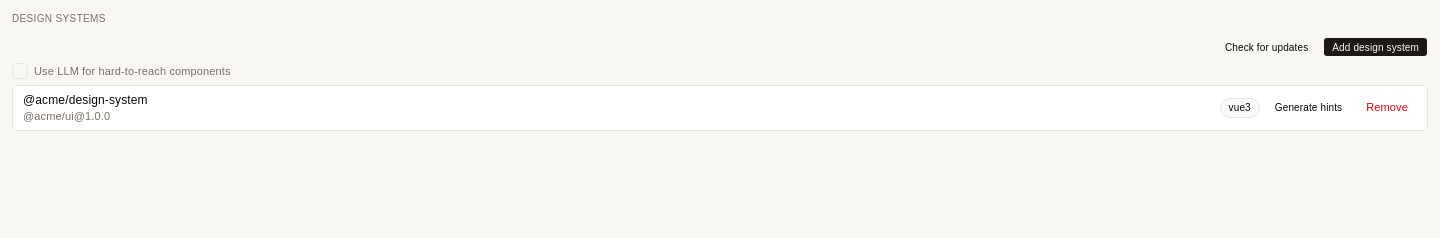
Scenario: DesignSystemsPanel add mode › swaps the list for the stepped flow, and back again on cancel
This screenshot has width=1440, height=238.
Click the button with test id "open-add-design-system" at (1376, 47), box 1323,37 -> 1428,57
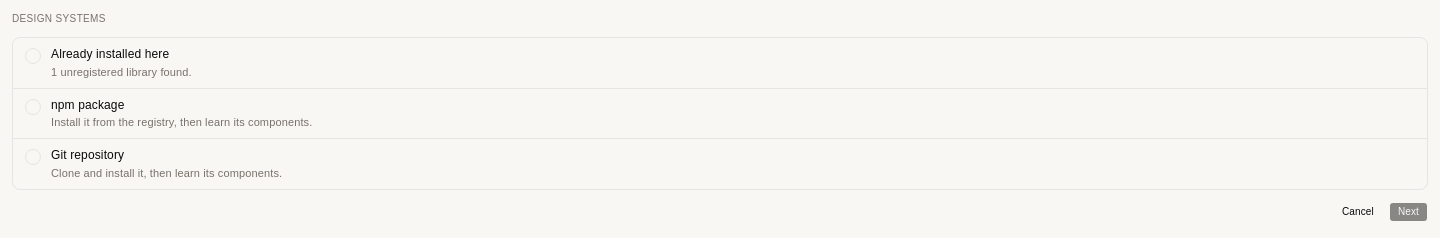
Result: the element with test id "add-design-system-source" is shown
Result: the text "@acme/design-system" is gone
Click the button with test id "add-design-system-cancel" at (1358, 212), box 1333,202 -> 1383,222
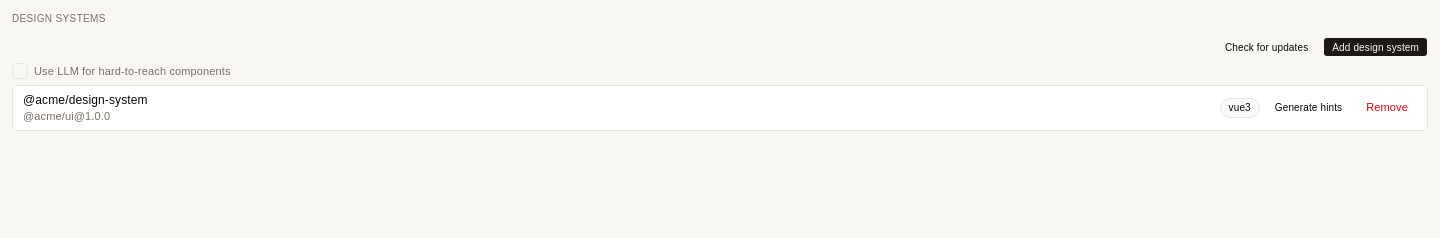
Result: the text "@acme/design-system" is shown at 23,92 -> 148,109
